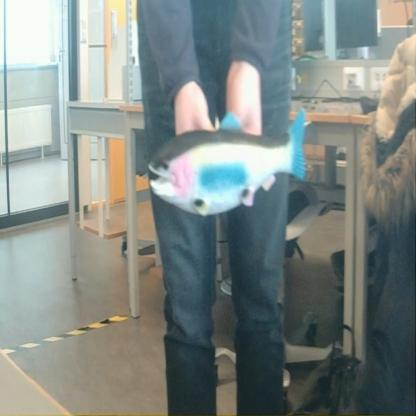rubberfish: (146, 98, 310, 220)
